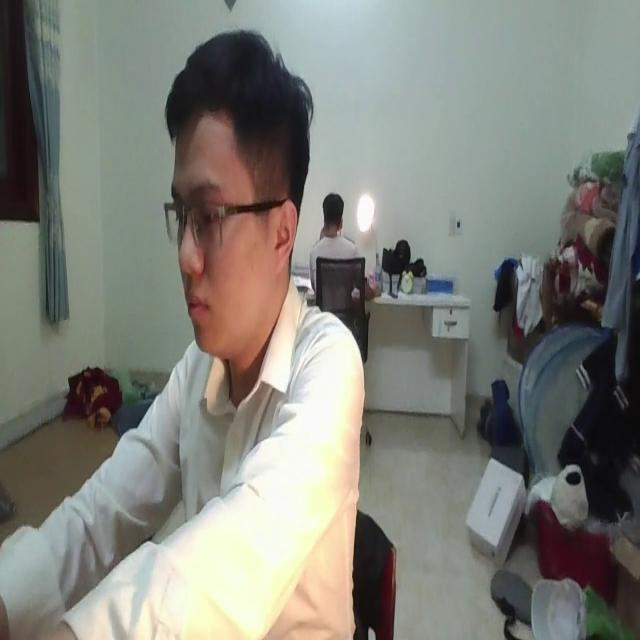extra_person: (309, 188, 375, 320)
student: (0, 19, 362, 640)
